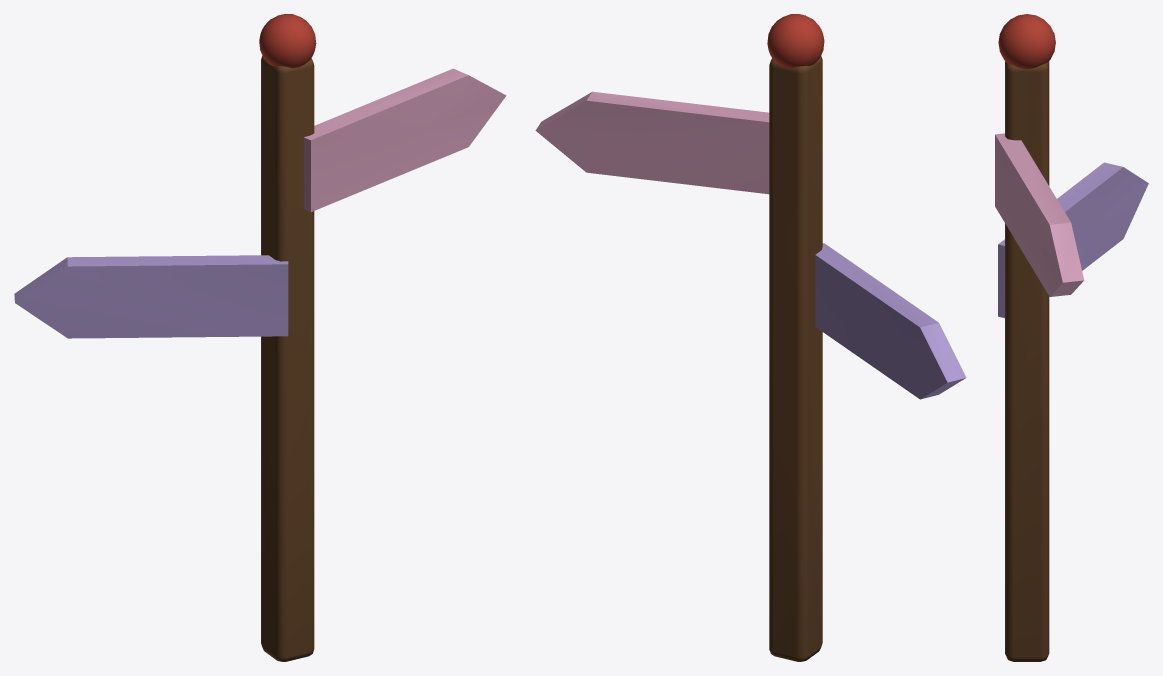
The model's file is signpost_club.glb.
3 views of the same model, side by side, from view 1: azimuth 30°, elevation 25°; view 2: azimuth 150°, elevation 25°; view 3: azimuth 270°, elevation 25° (orthographic).
Visible parts, largest first — view 1: signpost_club_main; view 2: signpost_club_main; view 3: signpost_club_main.
Part boxes in pixels (x1,y1,x2,y2): signpost_club_main: [14, 14, 506, 661]; signpost_club_main: [535, 14, 966, 661]; signpost_club_main: [995, 14, 1148, 661].
Size of the model in its own units: 1.2 by 1.6 by 0.348.
